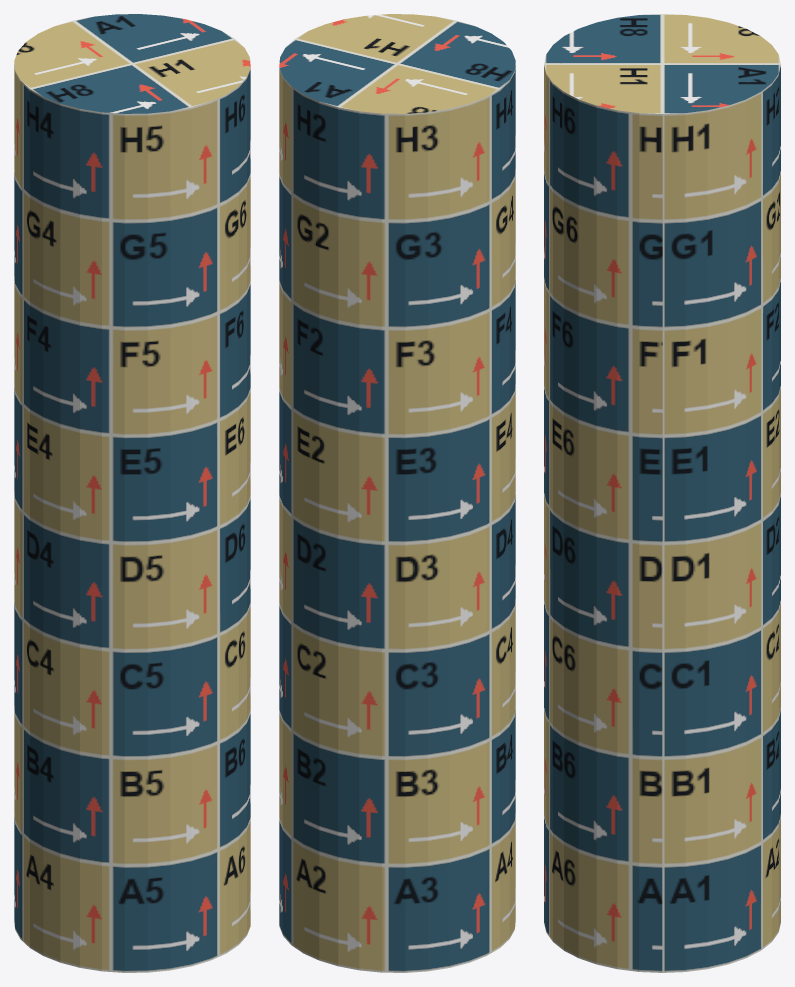
File: COLUMN_Round.fbx
The picture shows the model from 3 angles, left to right: view 1: azimuth 30°, elevation 25°; view 2: azimuth 150°, elevation 25°; view 3: azimuth 270°, elevation 25°; orthographic projection.
Visible parts, largest first — view 1: COLUMN_Round; view 2: COLUMN_Round; view 3: COLUMN_Round.
Part boxes in pixels (x1,y1,x2,y2): COLUMN_Round: [14, 14, 250, 972]; COLUMN_Round: [279, 14, 515, 972]; COLUMN_Round: [544, 14, 780, 972].
Size of the model in its own units: 50 by 200 by 50.
Materials: 1 (1 with a texture image).
